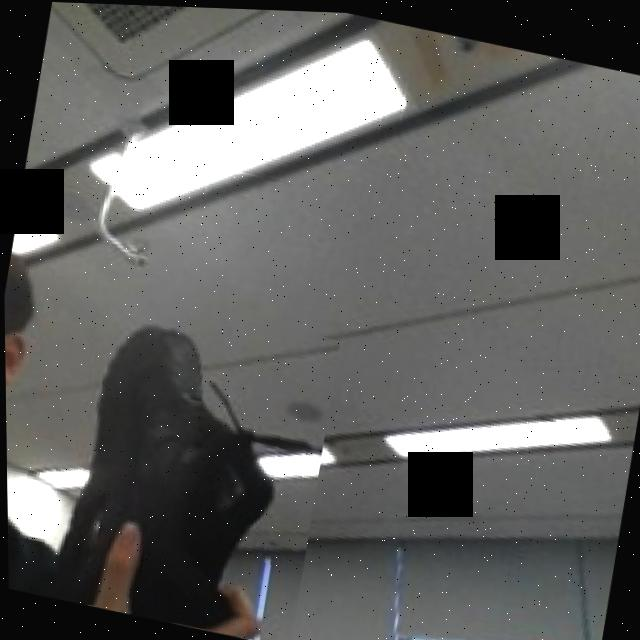shoe: (3, 264, 344, 640)
